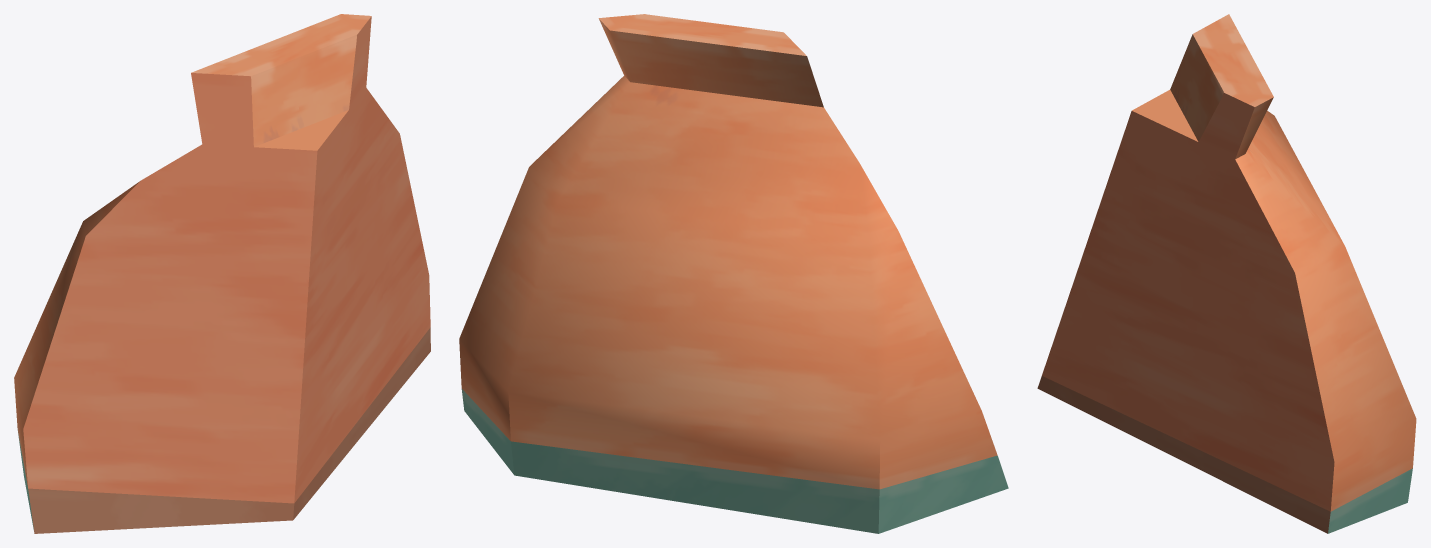
Rendered from pot_round_s02.fbx.
3 renders of one model, left to right at view 1: azimuth 30°, elevation 25°; view 2: azimuth 150°, elevation 25°; view 3: azimuth 270°, elevation 25°, orthographic. The views are drawn at different scales.
Visible parts, largest first — view 1: pot_round_s02; view 2: pot_round_s02; view 3: pot_round_s02.
Part boxes in pixels (x1=…): pot_round_s02: x1=14, y1=14, x2=430, y2=533; pot_round_s02: x1=459, y1=14, x2=1008, y2=533; pot_round_s02: x1=1037, y1=14, x2=1416, y2=533.
Bounding box in the file's own units: 1.46 × 1.22 × 1.04.
